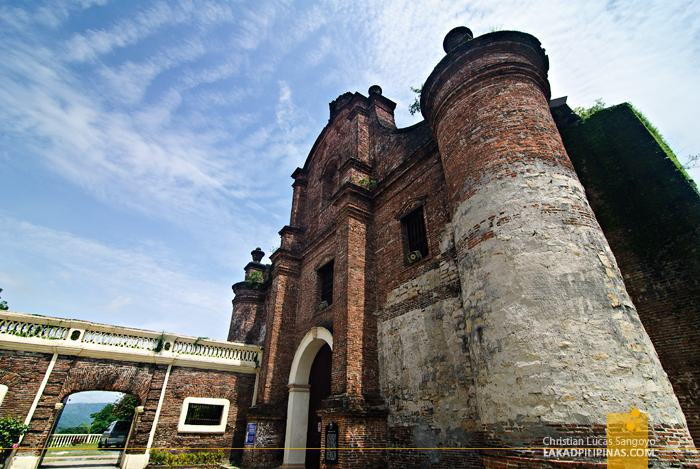santa_maria_church_santa_maria_ilocos_sur: (204, 21, 686, 469)
unfinished_paint: (362, 165, 683, 441)
